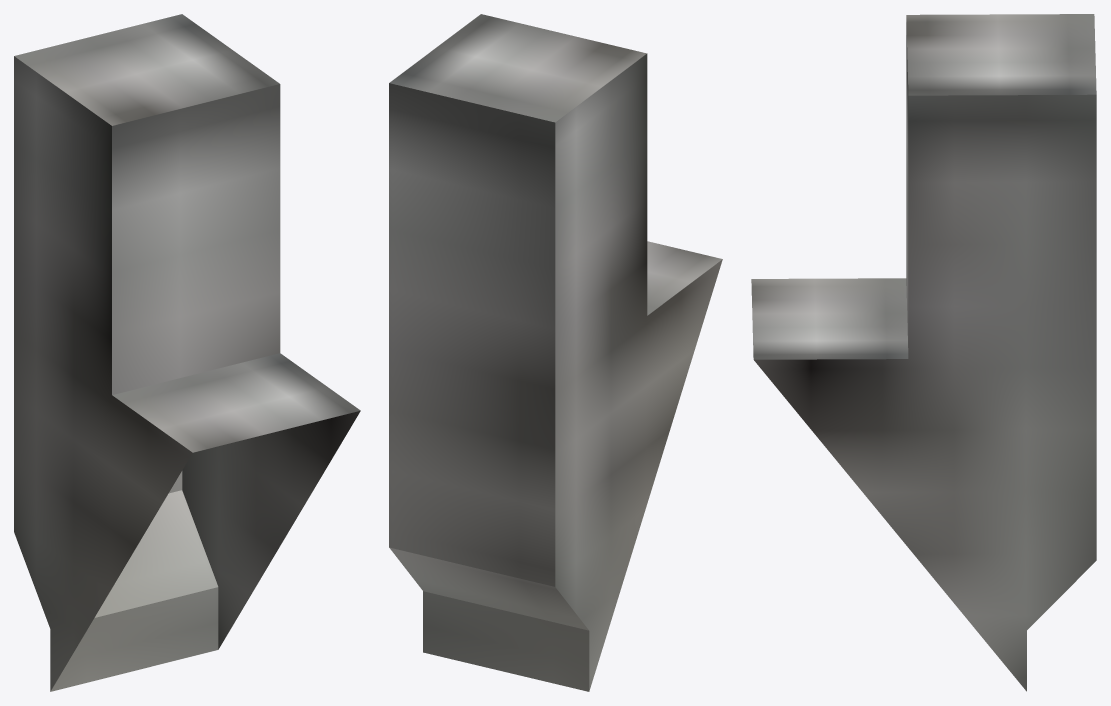
The model's file is euroB_11.glb.
3 renders of one model, left to right at view 1: azimuth 30°, elevation 25°; view 2: azimuth 150°, elevation 25°; view 3: azimuth 270°, elevation 25°, orthographic. The views are drawn at different scales.
Visible parts, largest first — view 1: geometry_0; view 2: geometry_0; view 3: geometry_0.
Boxes of the visible parts, left/top/right/bottom form: geometry_0: left=14, top=14, right=360, bottom=691; geometry_0: left=389, top=14, right=722, bottom=691; geometry_0: left=751, top=14, right=1096, bottom=691.
Size of the model in its own units: 0.4638 by 1.57 by 0.8208.
1 material, 1 textured.
